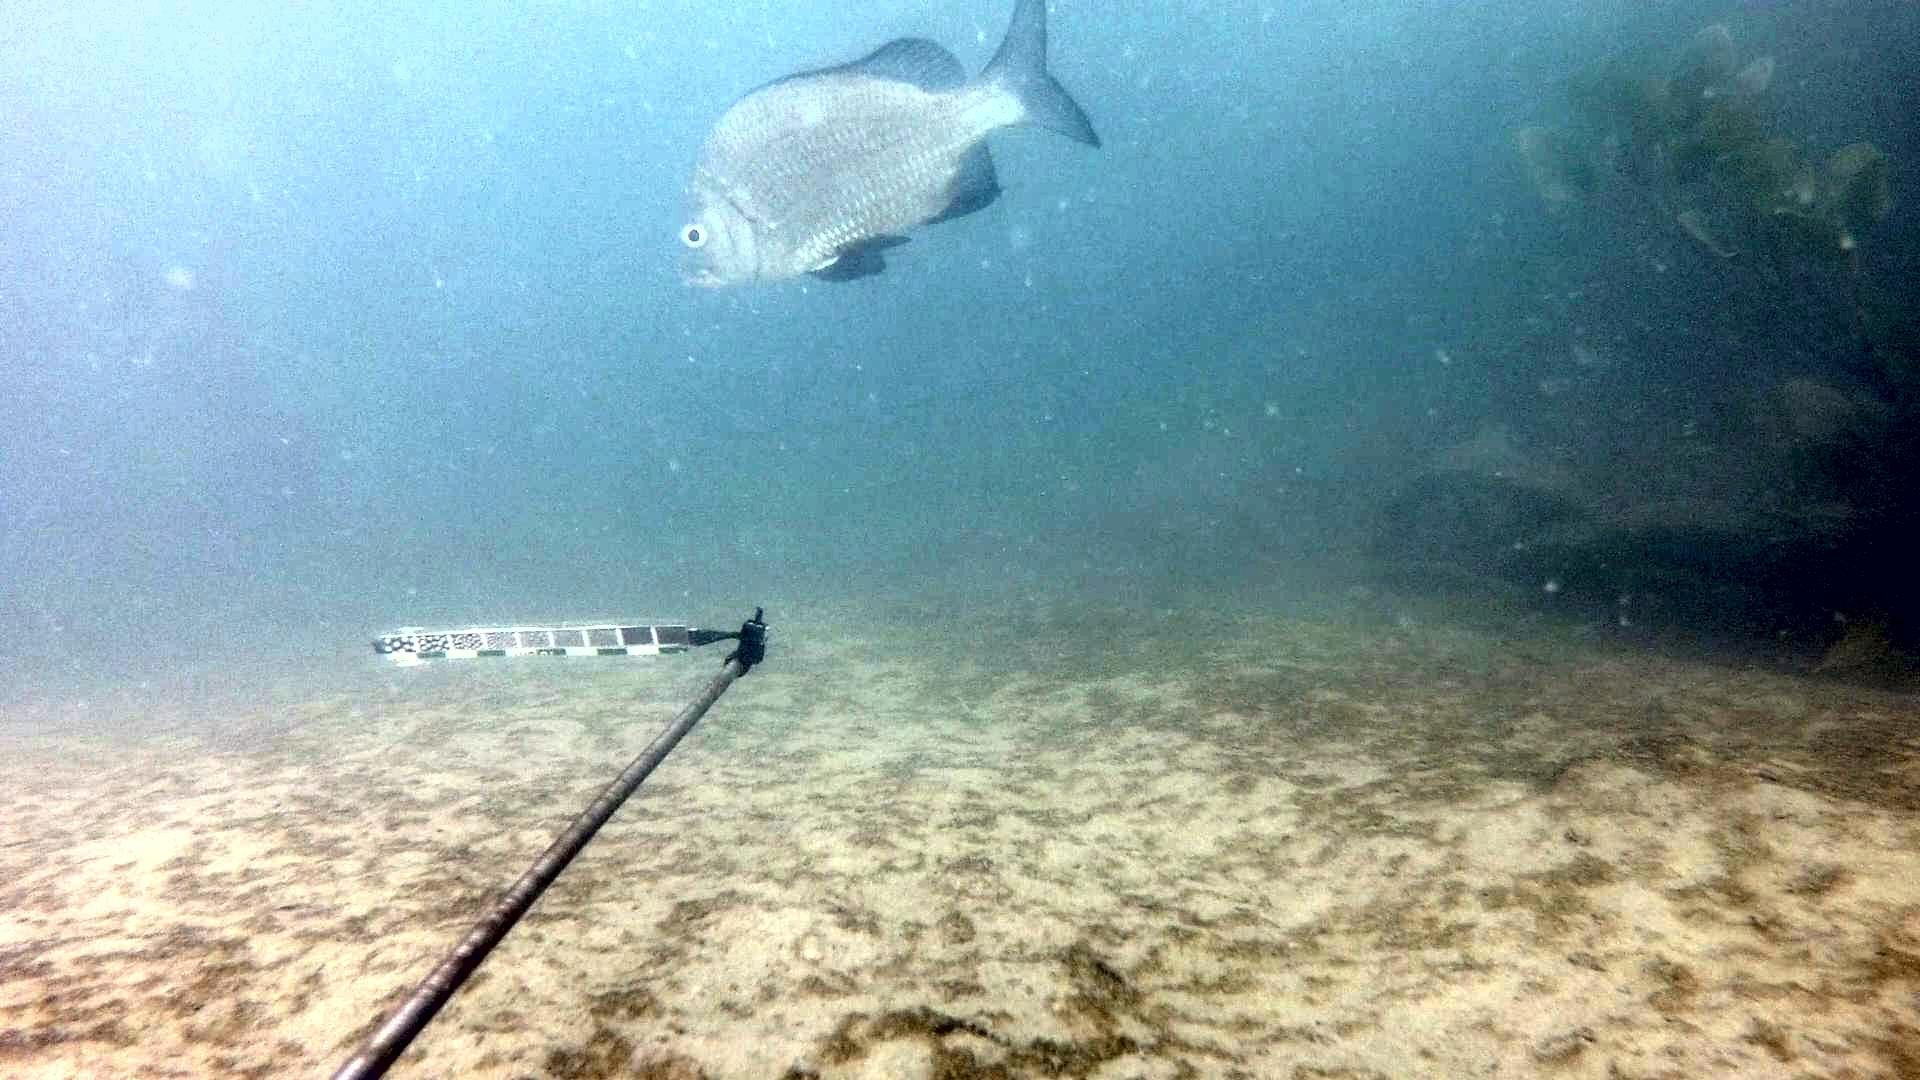acanthopagrus palmaris: (658, 0, 1112, 311)
